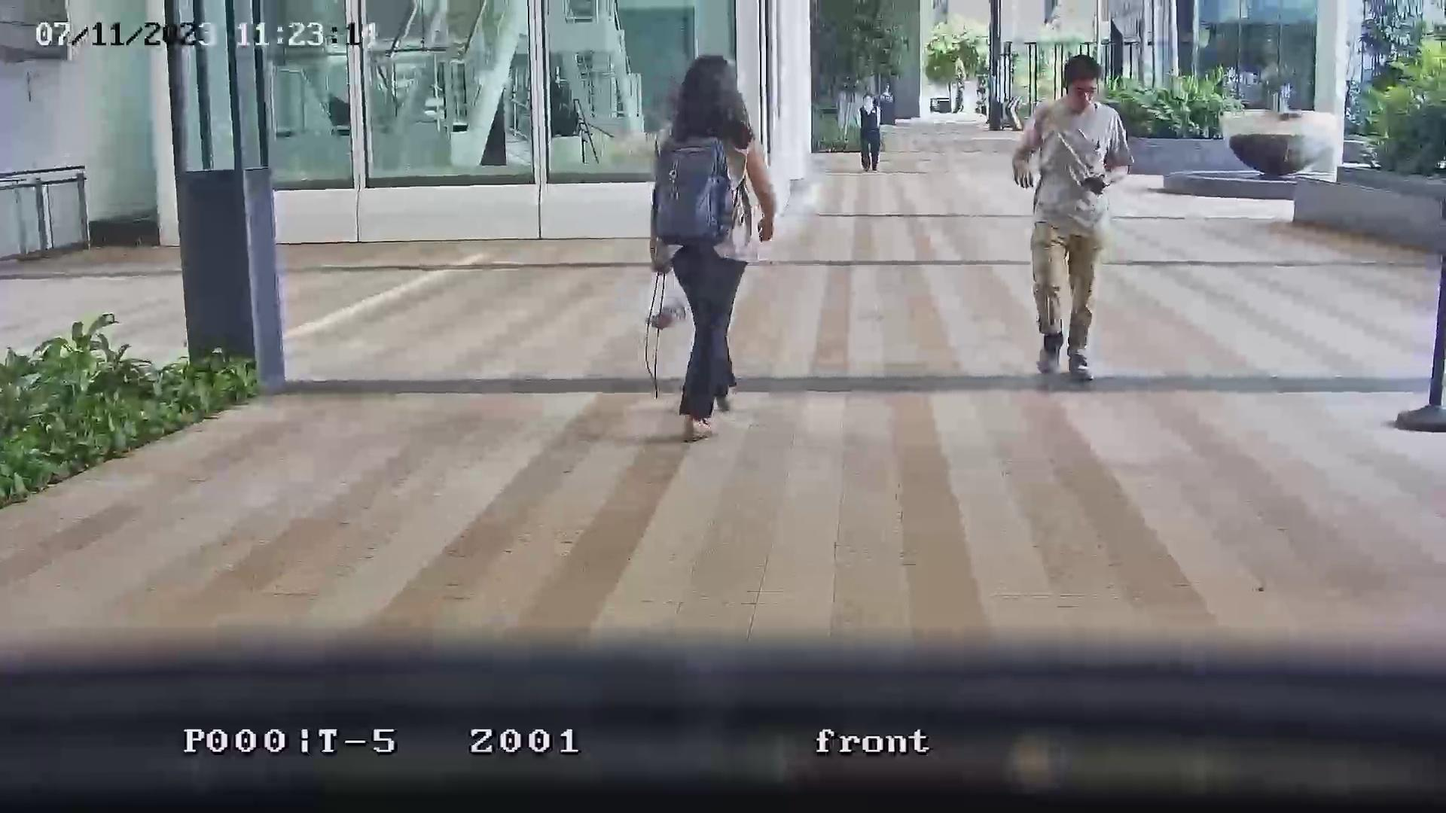person: (649, 54, 780, 443), (1014, 53, 1133, 381), (859, 94, 883, 172)
